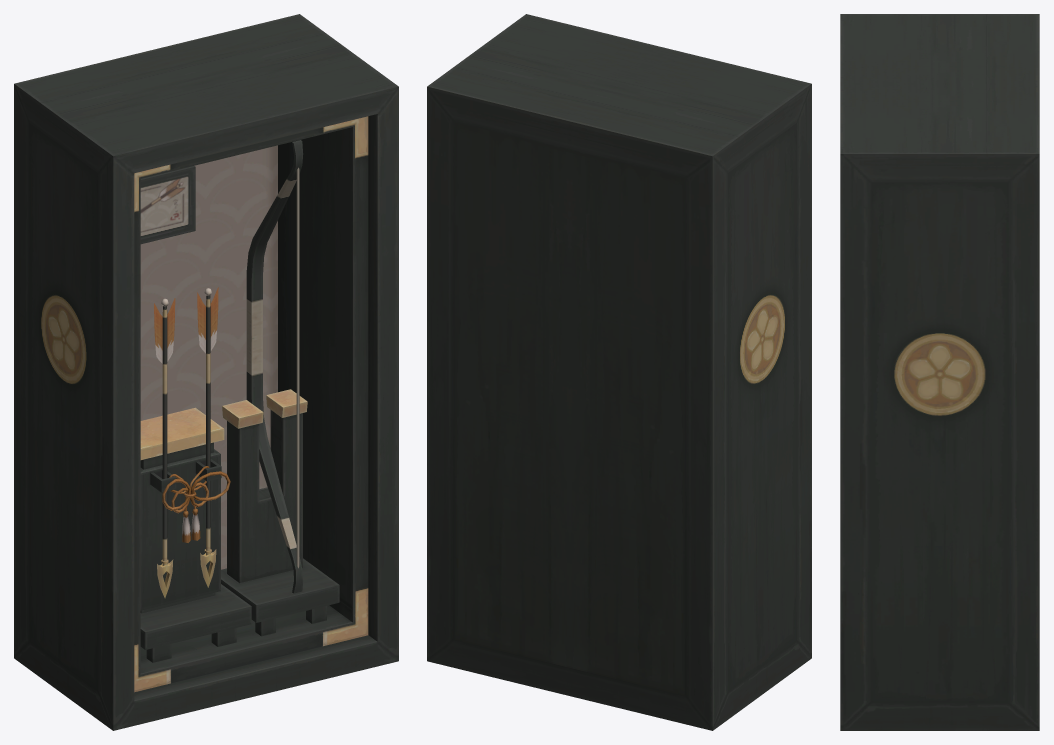
Rendered from Homeworld_Interior_Common_Decoration_Shipin_01_Vo.fbx.
3 renders of one model, left to right at view 1: azimuth 30°, elevation 25°; view 2: azimuth 150°, elevation 25°; view 3: azimuth 270°, elevation 25°, orthographic.
Visible parts, largest first — view 1: Homeworld_Interior_Common_Decoration_Shipin_01_Vo; view 2: Homeworld_Interior_Common_Decoration_Shipin_01_Vo; view 3: Homeworld_Interior_Common_Decoration_Shipin_01_Vo.
Part boxes in pixels (<box>): Homeworld_Interior_Common_Decoration_Shipin_01_Vo: <box>14,14,398,730</box>; Homeworld_Interior_Common_Decoration_Shipin_01_Vo: <box>427,14,811,730</box>; Homeworld_Interior_Common_Decoration_Shipin_01_Vo: <box>840,14,1039,730</box>.
Bounding box in the file's own units: 0.6911 × 1.33 × 0.4156.
